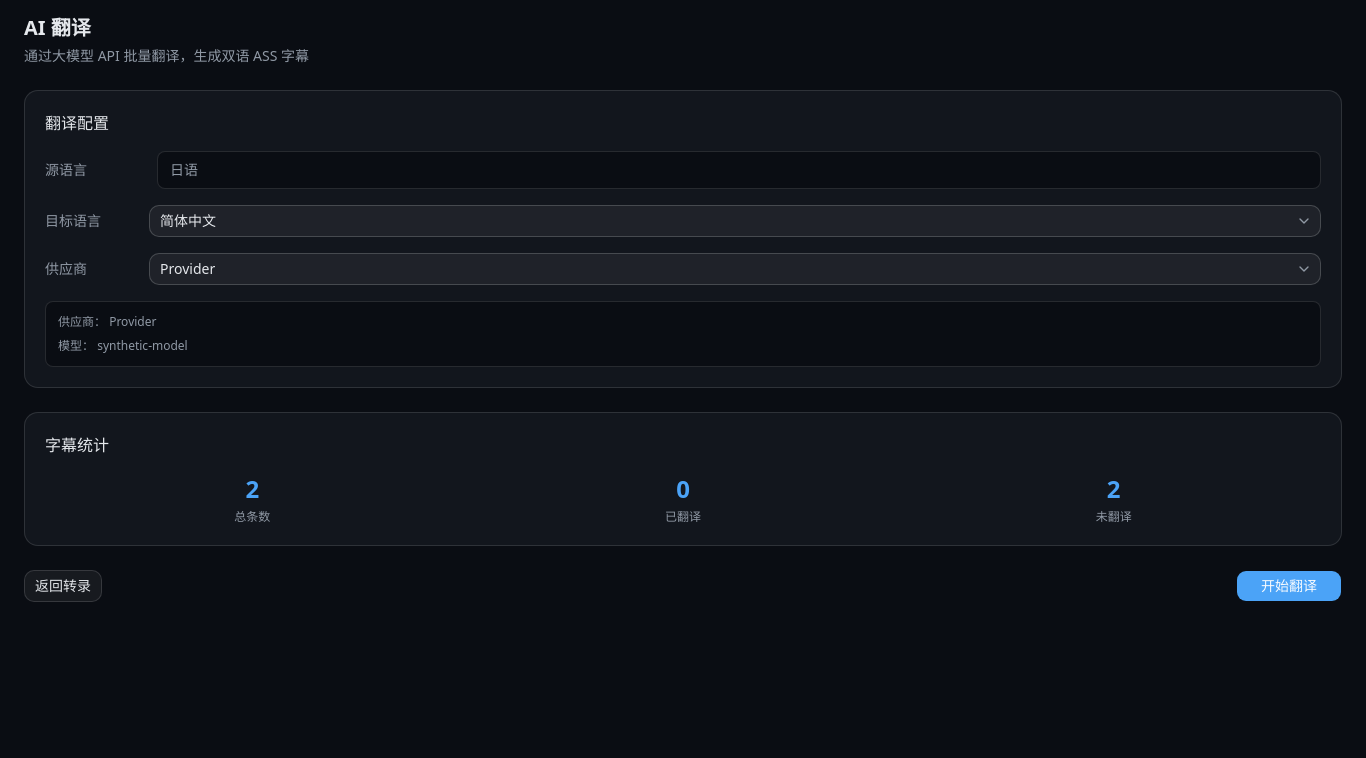
Test case: TranslateView › retries only untranslated cues and merges the result
Step 1. Click the button "开始翻译" → (1289, 586), box [1236,570,1342,602]
(page scrolled)
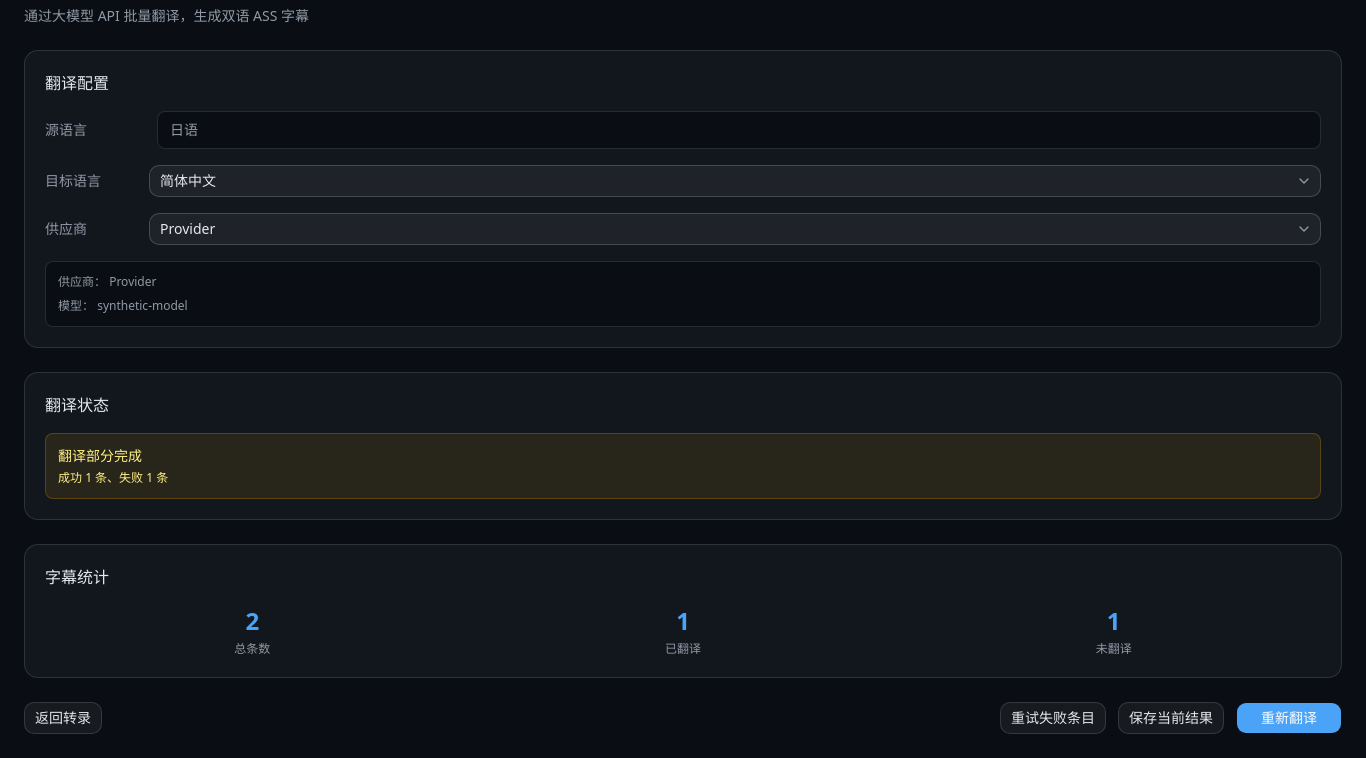
Step 2. Click the button "重试失败条目" → (1053, 718), box [1000,702,1106,734]
(page scrolled)
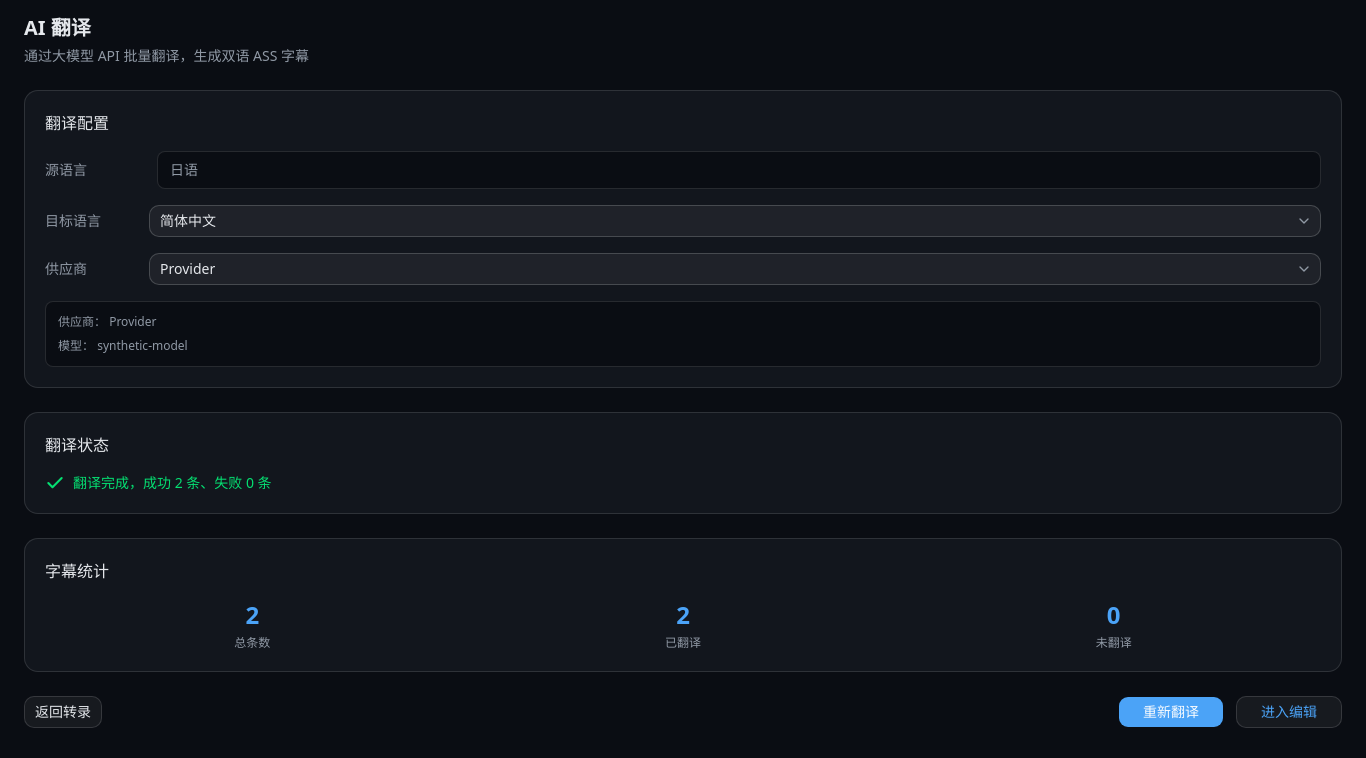
Now the button "进入编辑" is shown, box [1236,696,1342,728]
